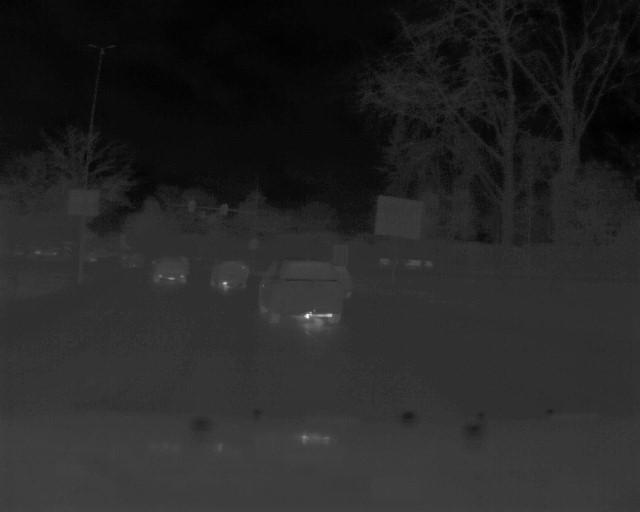car: (256, 257, 346, 331), (207, 257, 253, 294), (150, 256, 191, 288)
